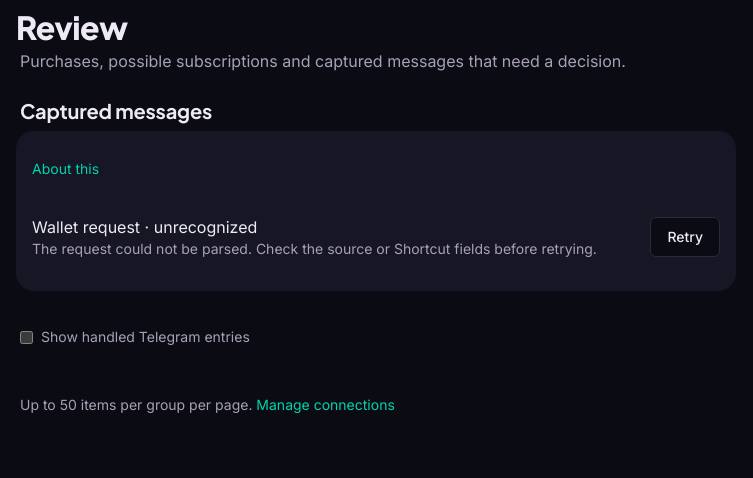
Scenario: capture review queues a deliberate retry and refreshes
The width and height of the screenshot is (753, 478).
Click the button "Retry".
click(685, 237)  # box x1=650 y1=217 x2=720 y2=257
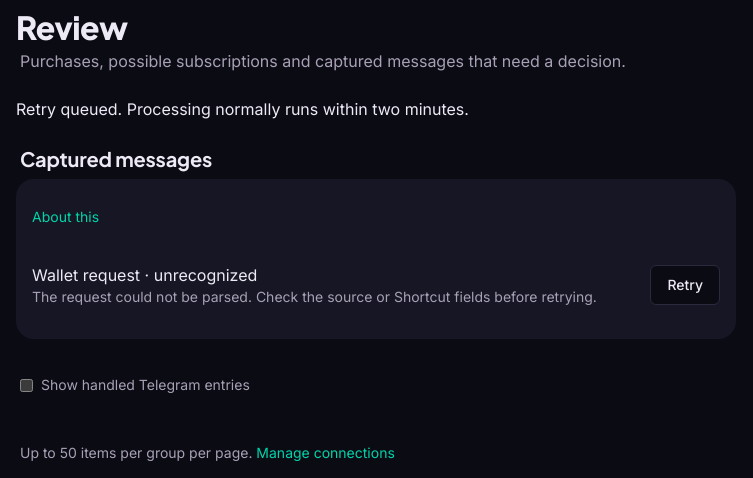
expect the text "Retry queued. Processing normally runs within two minutes." is shown: met, box x1=16 y1=99 x2=469 y2=119
